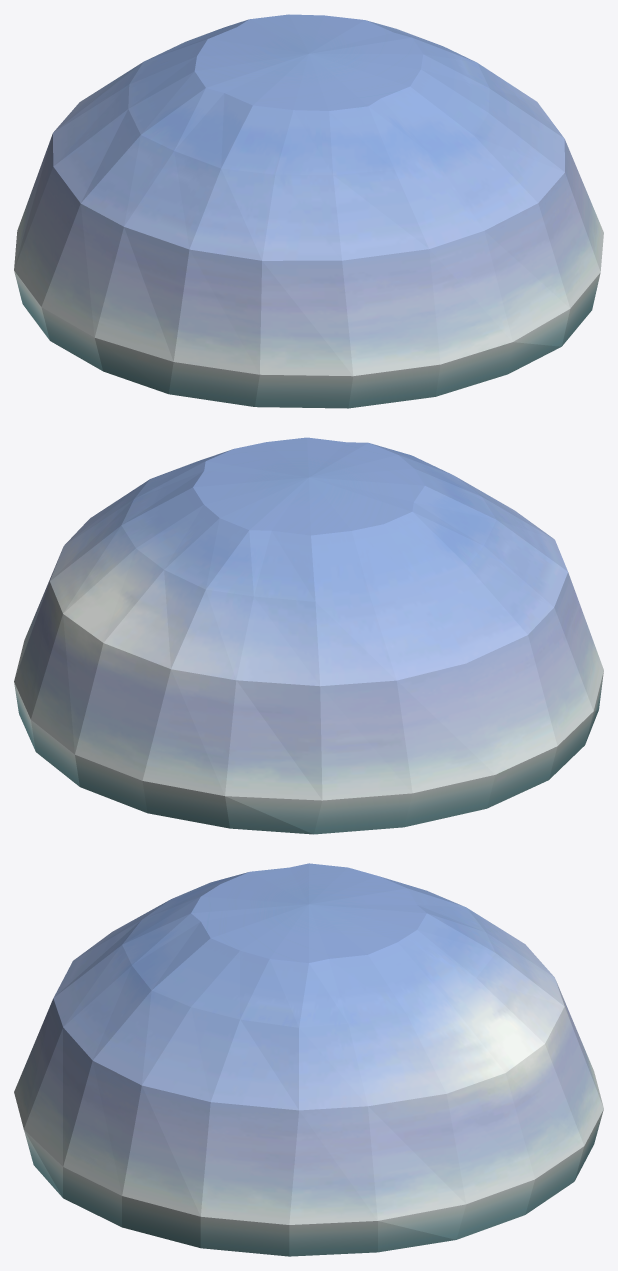
Rendered from C3M2_SKY.obj.
3 renders of one model, top to bottom at view 1: azimuth 30°, elevation 25°; view 2: azimuth 150°, elevation 25°; view 3: azimuth 270°, elevation 25°, orthographic.
Visible parts, largest first — view 1: Node 0; view 2: Node 0; view 3: Node 0.
Boxes of the visible parts, x1=… form: Node 0: x1=14, y1=14, x2=603, y2=408; Node 0: x1=14, y1=437, x2=603, y2=834; Node 0: x1=14, y1=863, x2=603, y2=1256.
Bounding box in the file's own units: 0.6 × 0.26 × 0.6.
Materials: 8 (8 with a texture image).
